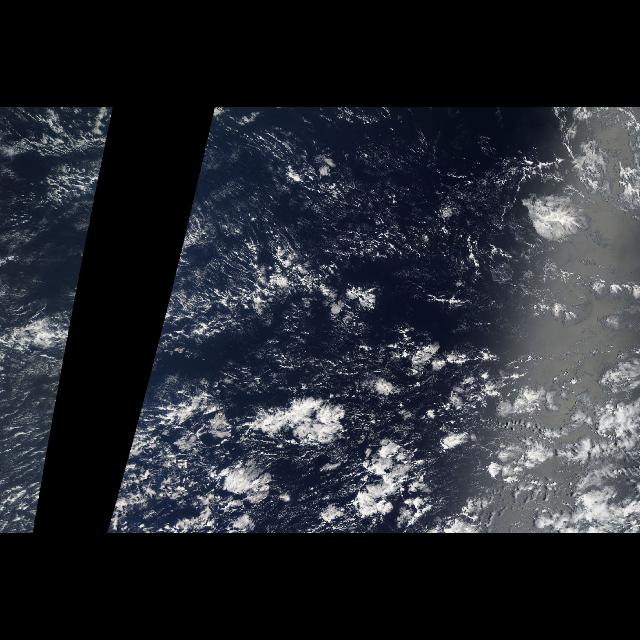Gravel: (306, 342, 566, 514), (189, 159, 451, 319)
Sugar: (182, 115, 490, 313)
